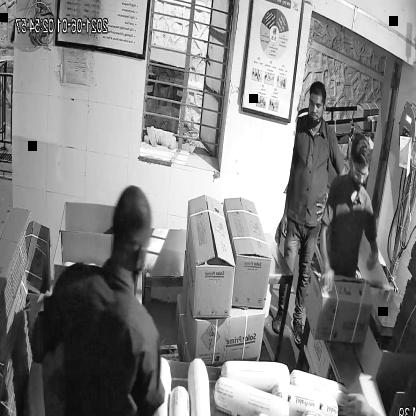goggles: (348, 158, 373, 184)
